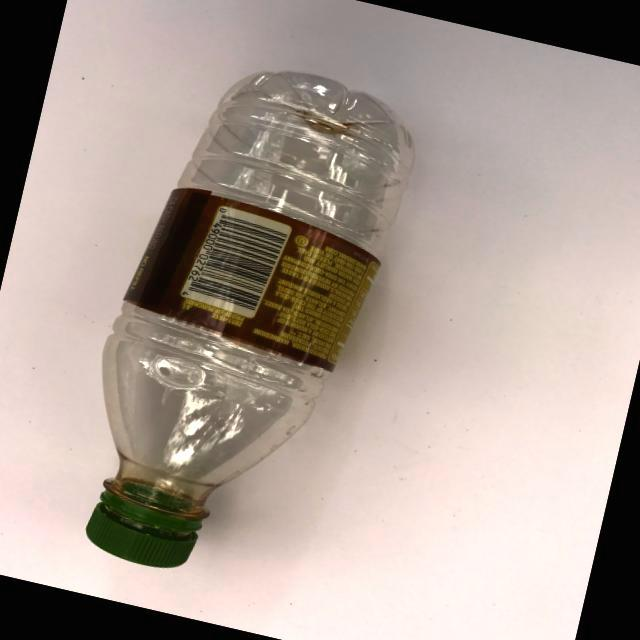plastic: (1, 21, 458, 628)
